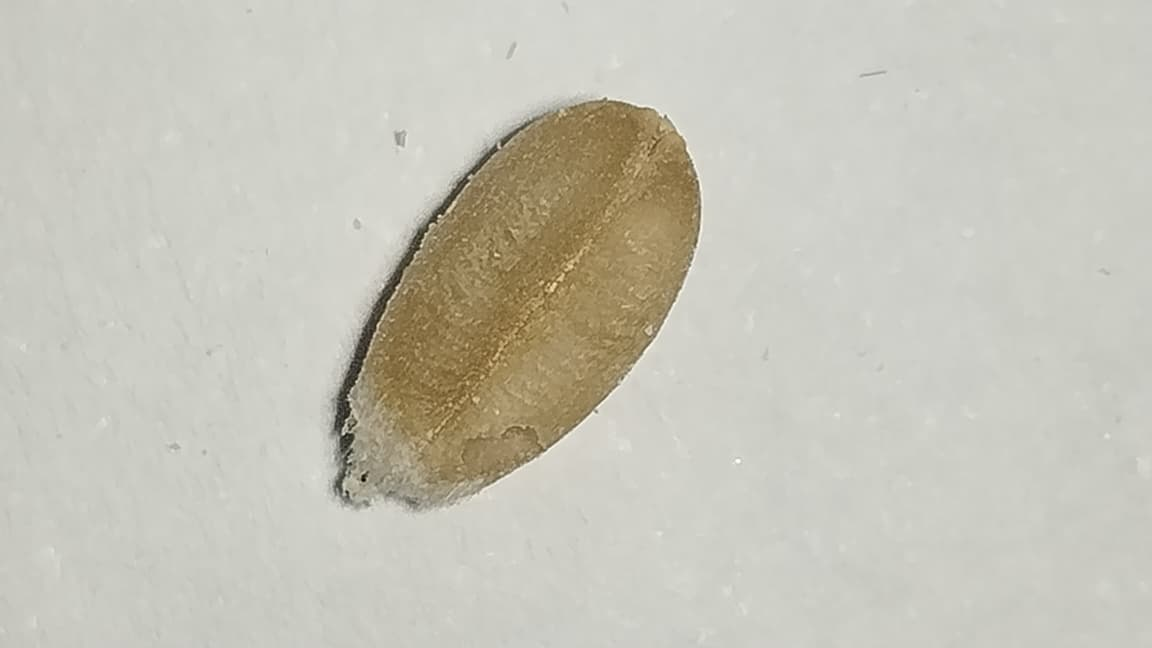damage: (338, 98, 699, 513)
insectdamage: (449, 394, 564, 494)
